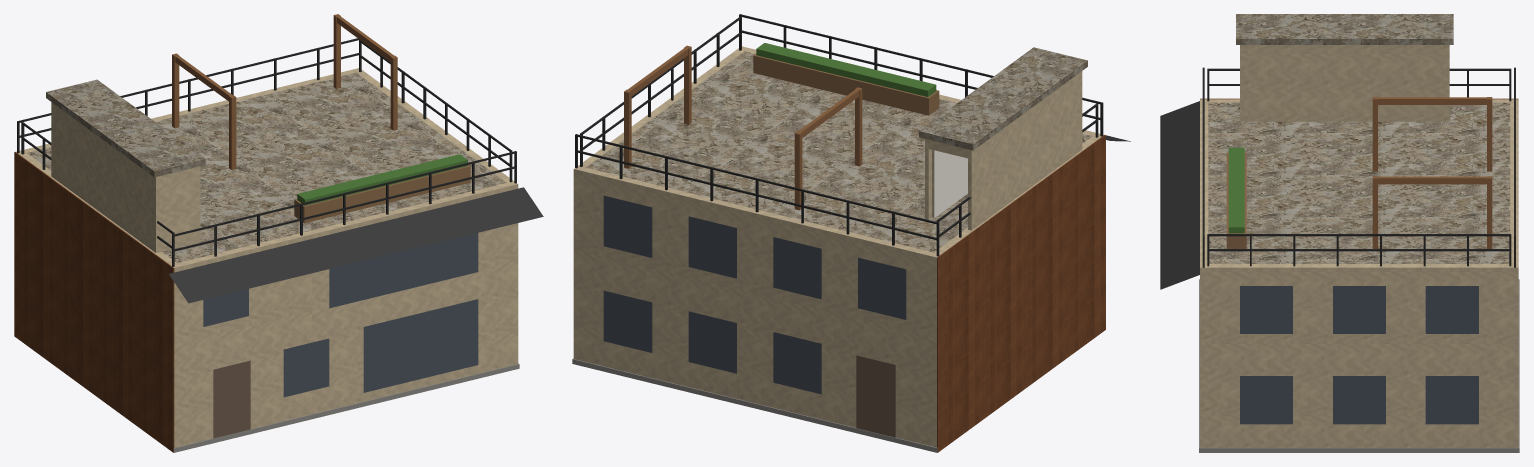
File: cr-desert-modern.towns-v1.lod1.glb
3 renders of one model, left to right at view 1: azimuth 30°, elevation 25°; view 2: azimuth 150°, elevation 25°; view 3: azimuth 270°, elevation 25°, orthographic. The views are drawn at different scales.
Parts seen in each view (by area): view 1: cr-desert-modern; view 2: cr-desert-modern; view 3: cr-desert-modern.
Boxes of the visible parts, x1,y1,x2,y2 form: cr-desert-modern: (14, 14, 543, 452); cr-desert-modern: (572, 14, 1130, 452); cr-desert-modern: (1160, 14, 1519, 452).
Bounding box in the file's own units: 12.4 × 8.95 × 10.83.
Materials: 4 (3 with a texture image).
